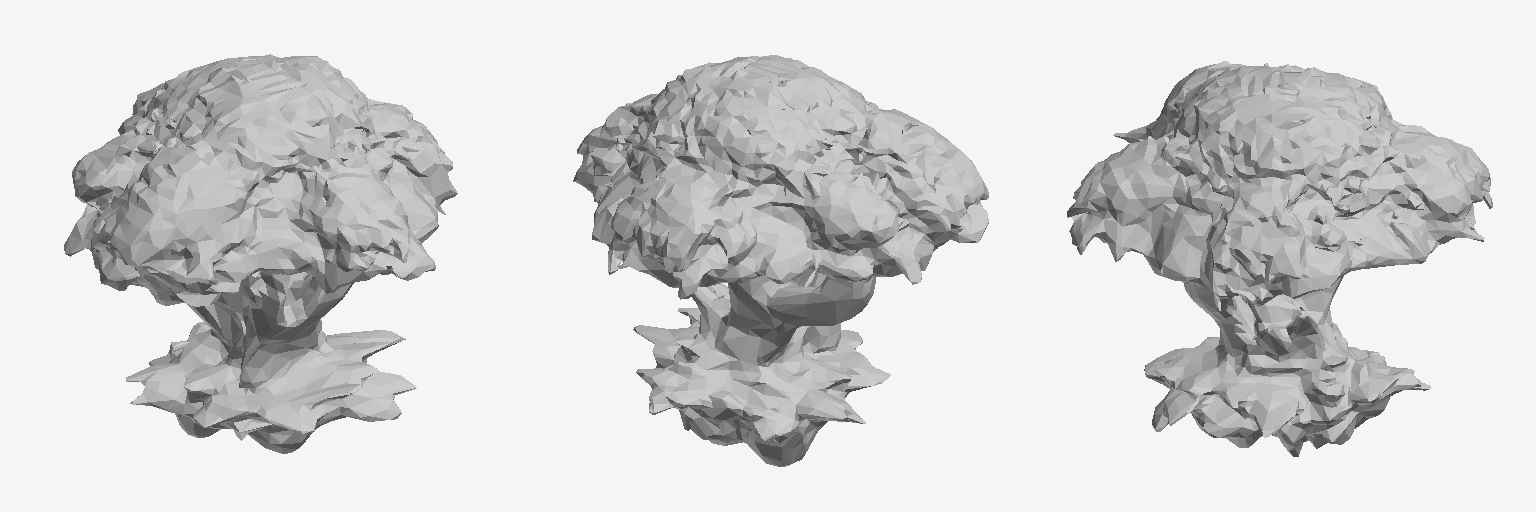
File: 0328cf962634_green_and_purple_al.obj
3 renders of one model, left to right at view 1: azimuth 30°, elevation 25°; view 2: azimuth 150°, elevation 25°; view 3: azimuth 270°, elevation 25°, orthographic.
Parts seen in each view (by area): view 1: mesh; view 2: mesh; view 3: mesh.
Boxes of the visible parts, <box> form: mesh: <box>64,54,457,453</box>; mesh: <box>573,55,988,466</box>; mesh: <box>1067,61,1492,456</box>.
Bounding box in the file's own units: 0.9925 × 0.9593 × 0.9994.